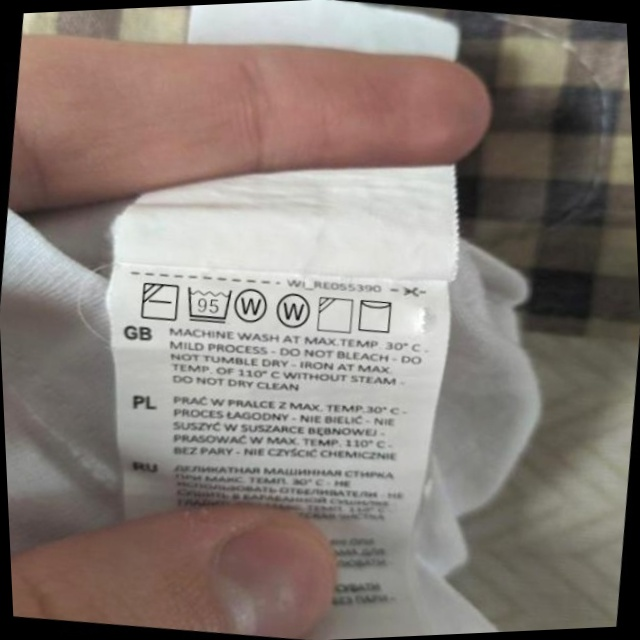95C: (182, 281, 236, 327)
dry_flat_in_shade: (136, 277, 183, 325)
line_dry: (353, 293, 399, 338)
shade_dry: (313, 292, 358, 337)
wet_clean: (272, 289, 315, 334), (232, 282, 273, 327)
